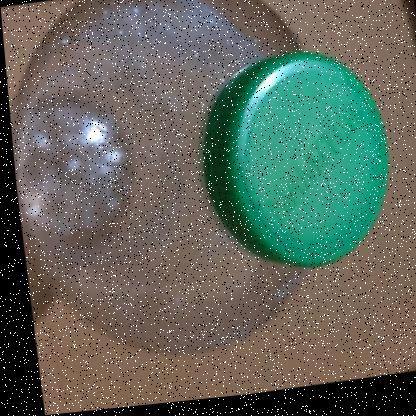bottle cap: (63, 1, 416, 376)
